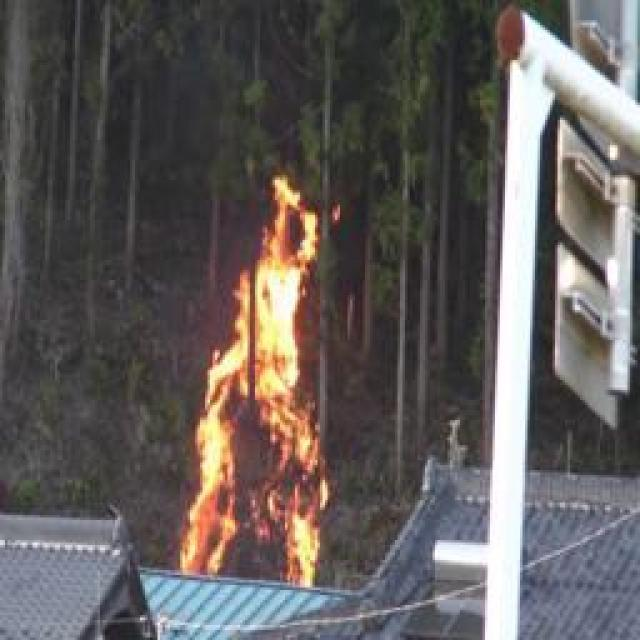Fire: (178, 186, 336, 584)
